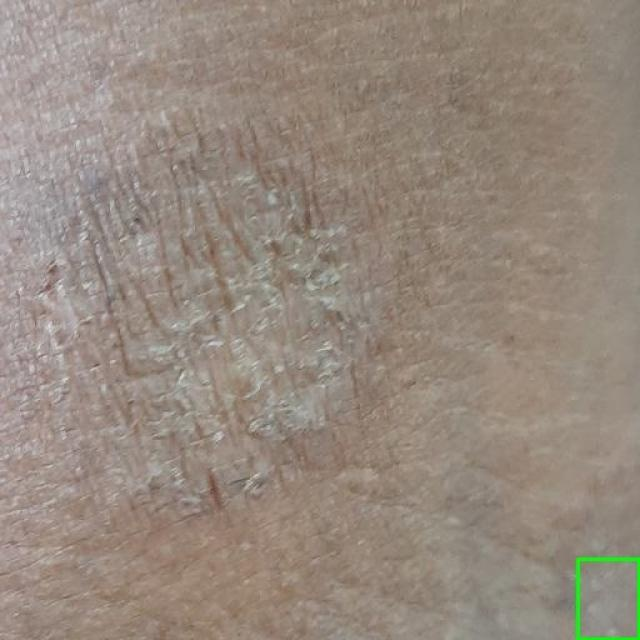Tinea Corporis: (578, 559, 639, 639)
